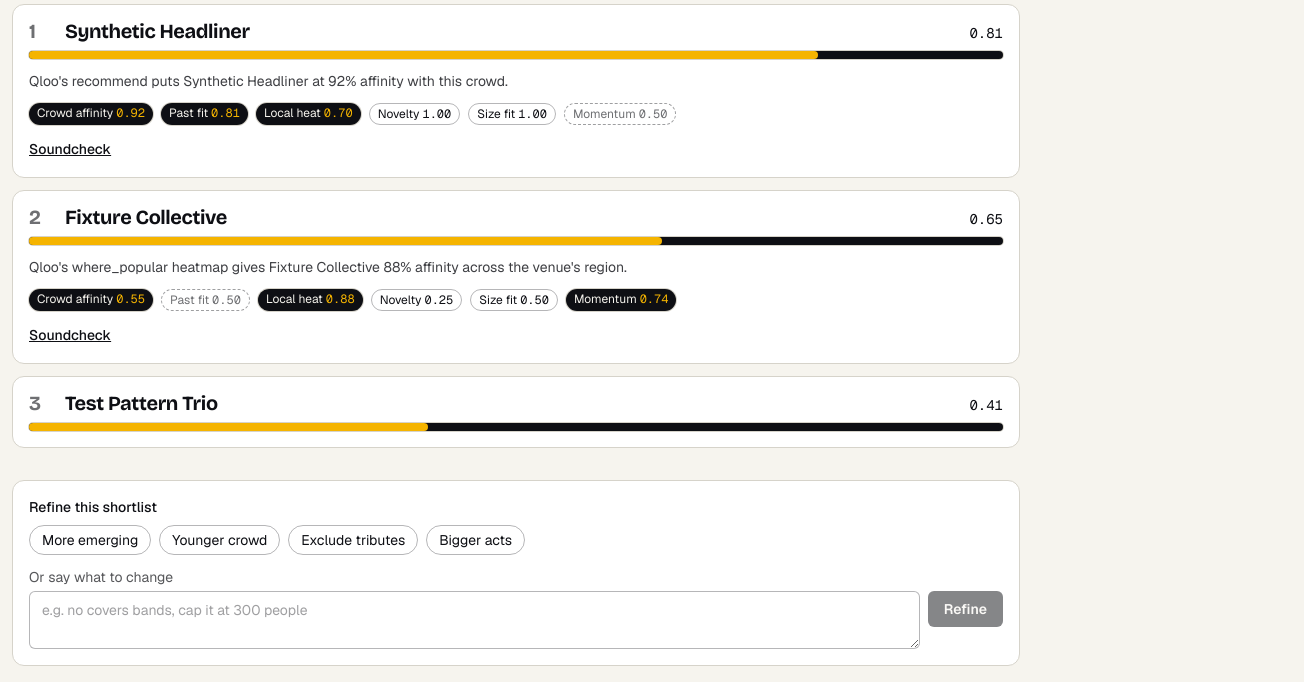
refinable run › shows an earlier run from the history with its own diff, and branches from it
The width and height of the screenshot is (1304, 682).
(page scrolled)
Click the button "More emerging".
click(90, 540)  # box top-left (29, 525), bottom-right (151, 555)
(page scrolled)
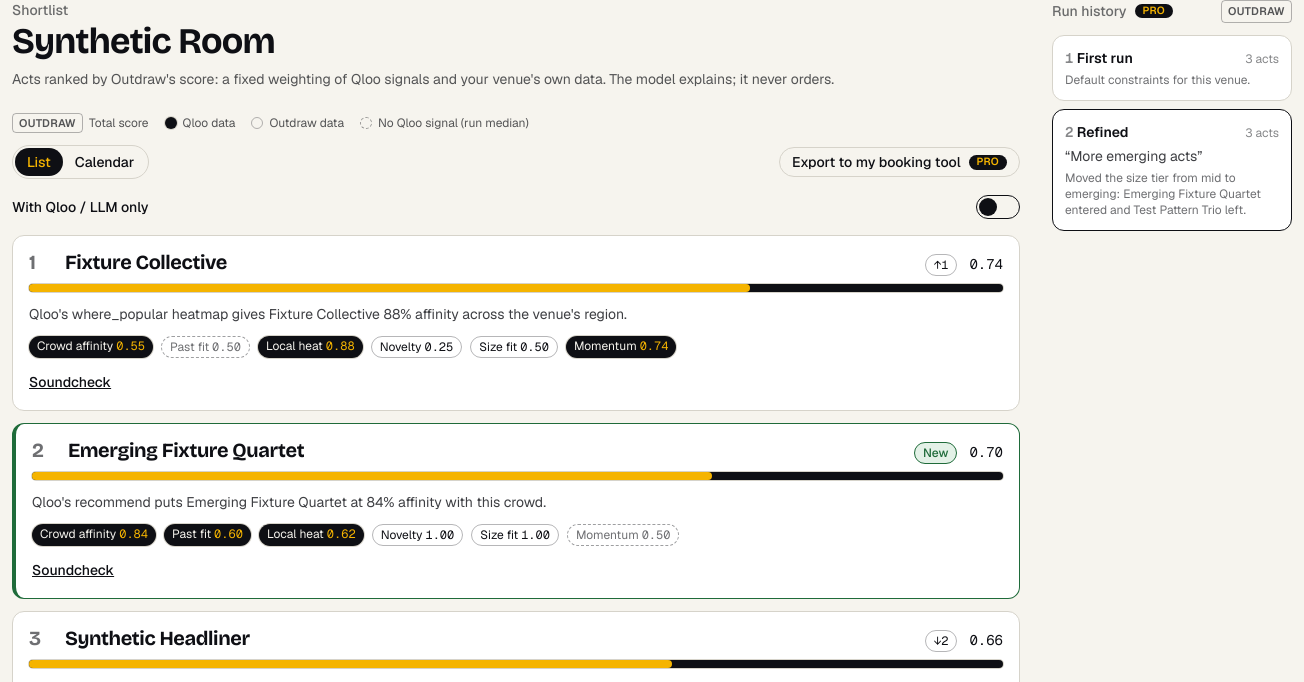
Expected: the heading "Emerging Fixture Quartet" is shown, top-left (68, 438), bottom-right (304, 462)
Click the button "1 First run 3 acts Default constraints for this venue.".
click(1172, 68)  # box top-left (1052, 34), bottom-right (1292, 100)
(page scrolled)
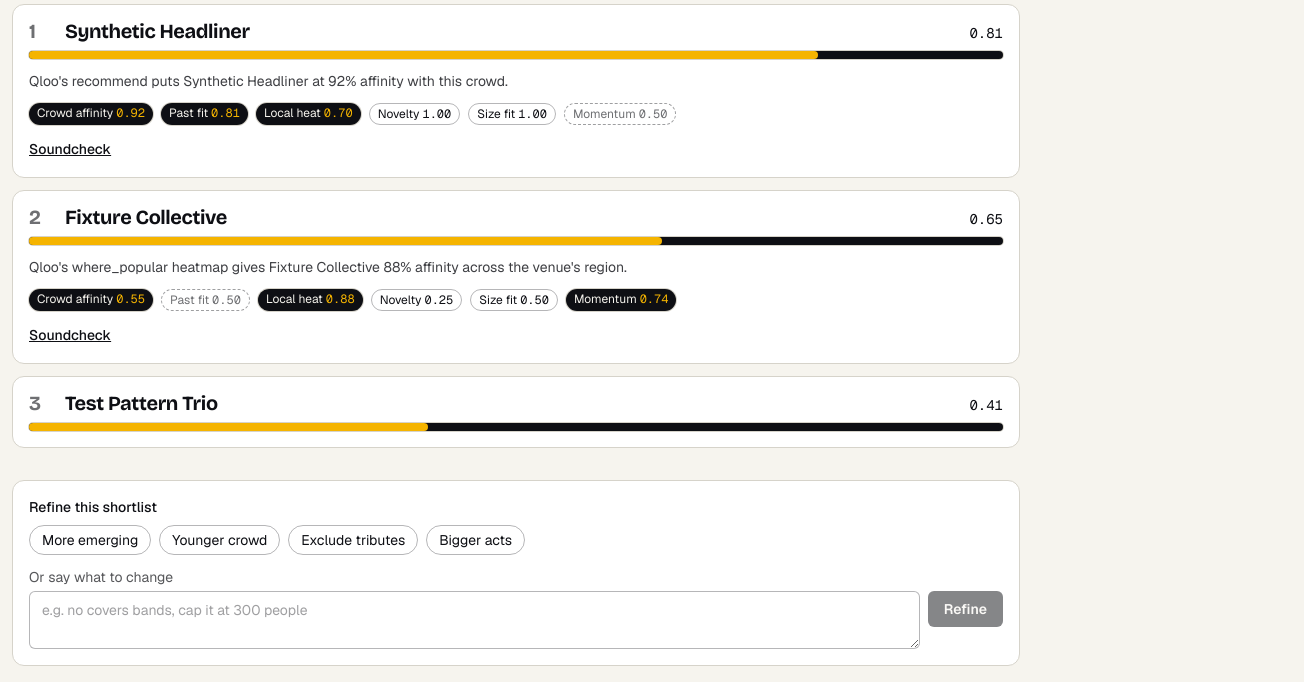
Click the button "Bigger acts".
click(476, 540)  # box top-left (426, 525), bottom-right (525, 555)
(page scrolled)
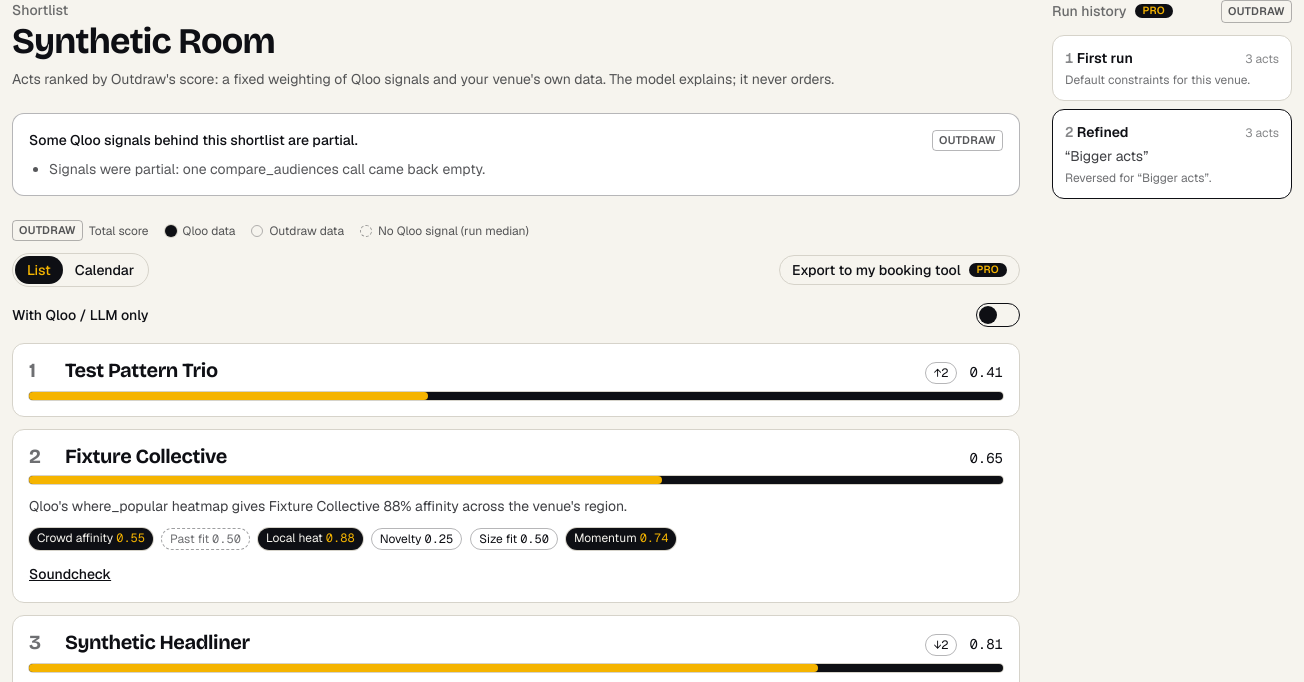
Expected: the text "“Bigger acts”" is shown, top-left (1065, 146), bottom-right (1148, 164)
